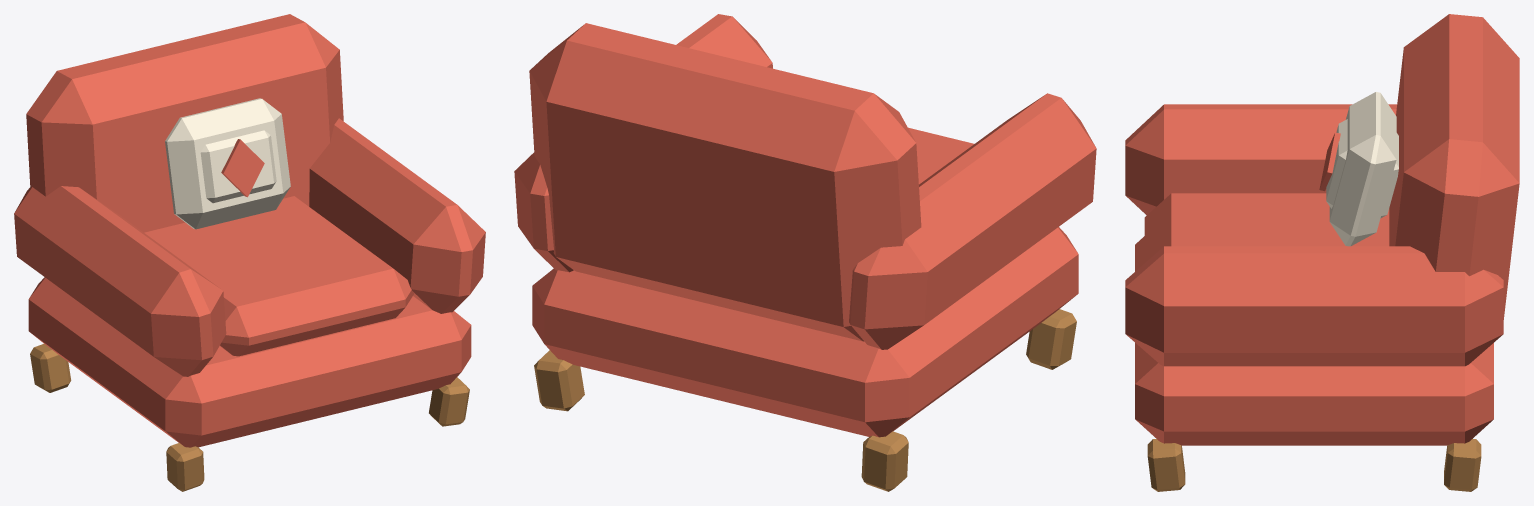
Rendered from armchair.glb.
The picture shows the model from 3 angles, left to right: view 1: azimuth 30°, elevation 25°; view 2: azimuth 150°, elevation 25°; view 3: azimuth 270°, elevation 25°; orthographic projection. The views are drawn at different scales.
Parts seen in each view (by area): view 1: armchair; view 2: armchair; view 3: armchair.
Part boxes in pixels (box(x1,y1,x2,y2)): armchair: box(14, 14, 485, 491); armchair: box(514, 14, 1096, 491); armchair: box(1125, 14, 1519, 491).
Size of the model in its own units: 0.876 by 0.7757 by 0.8127.
